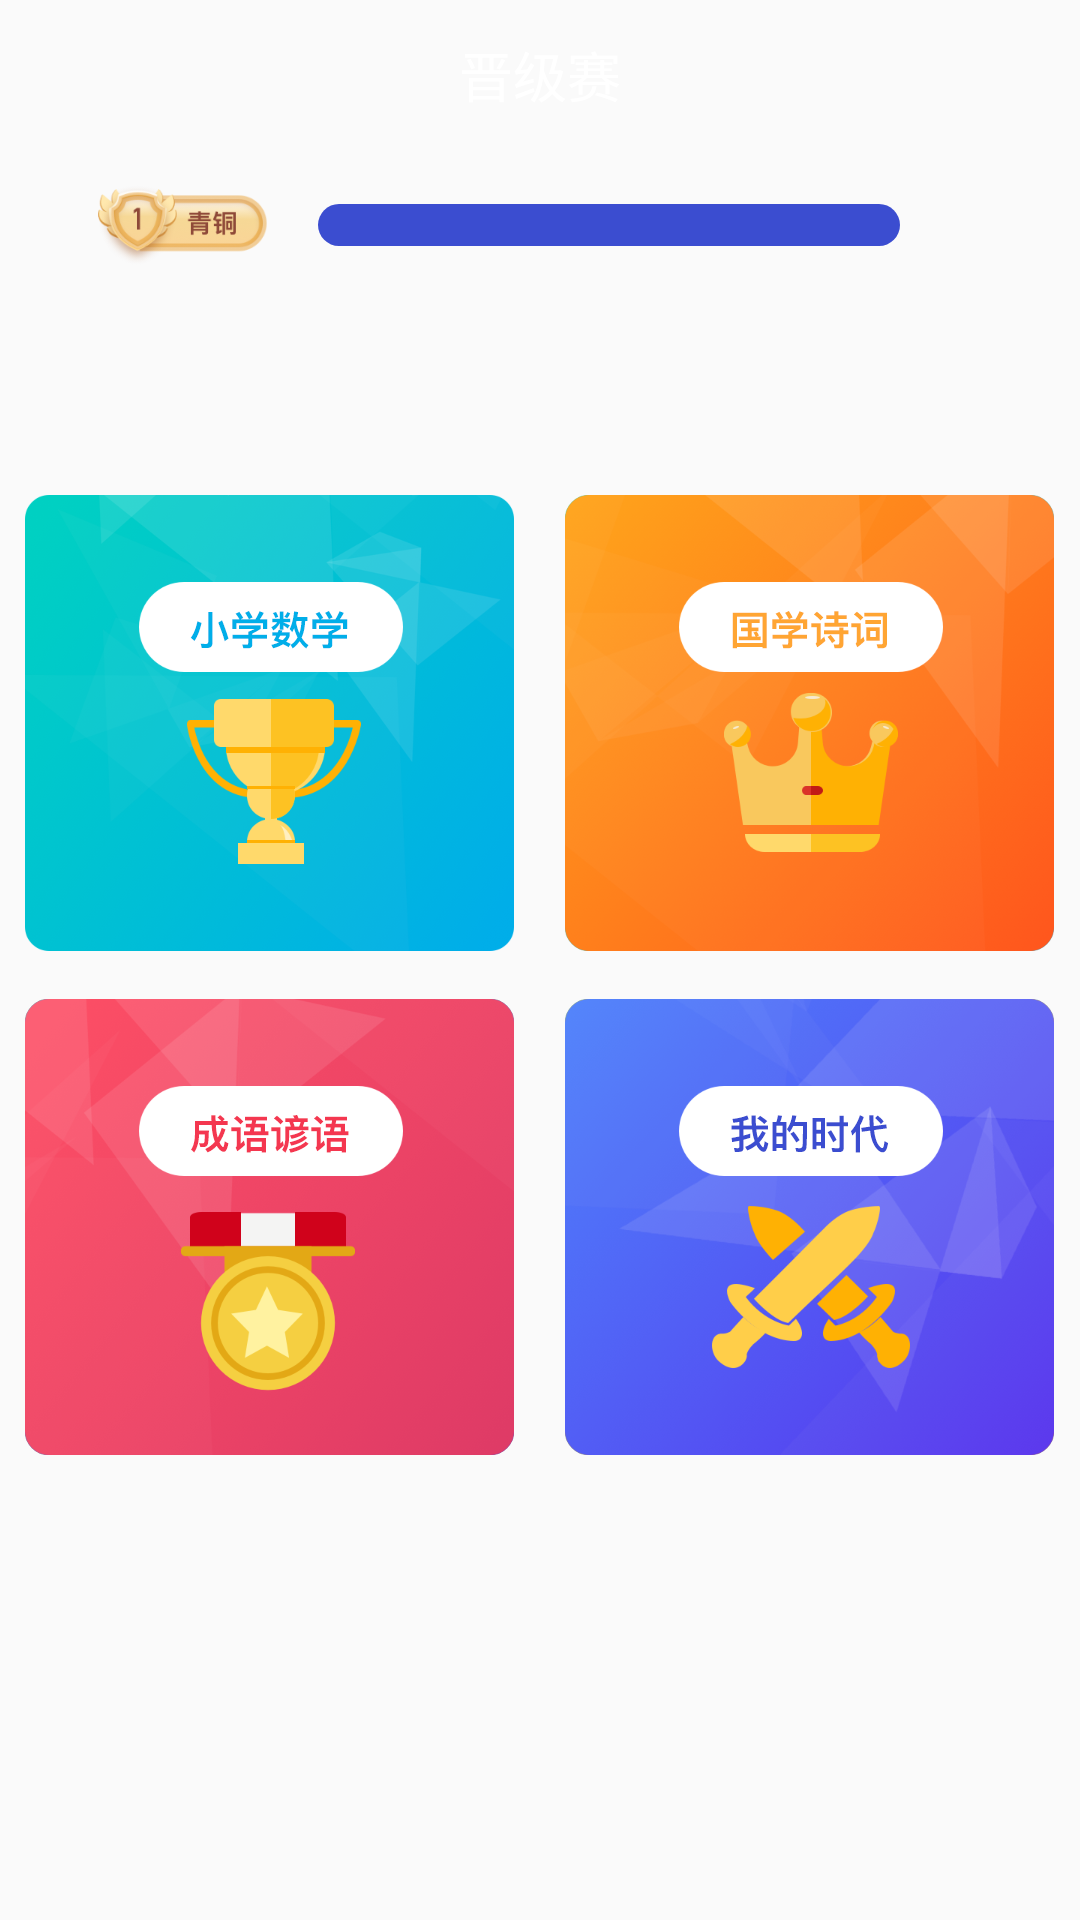

Icon bounding boxes for this 1080px x 1920px phone screenshot, format region(x1, y1, x2, y2):
level: region(98, 189, 267, 258)
